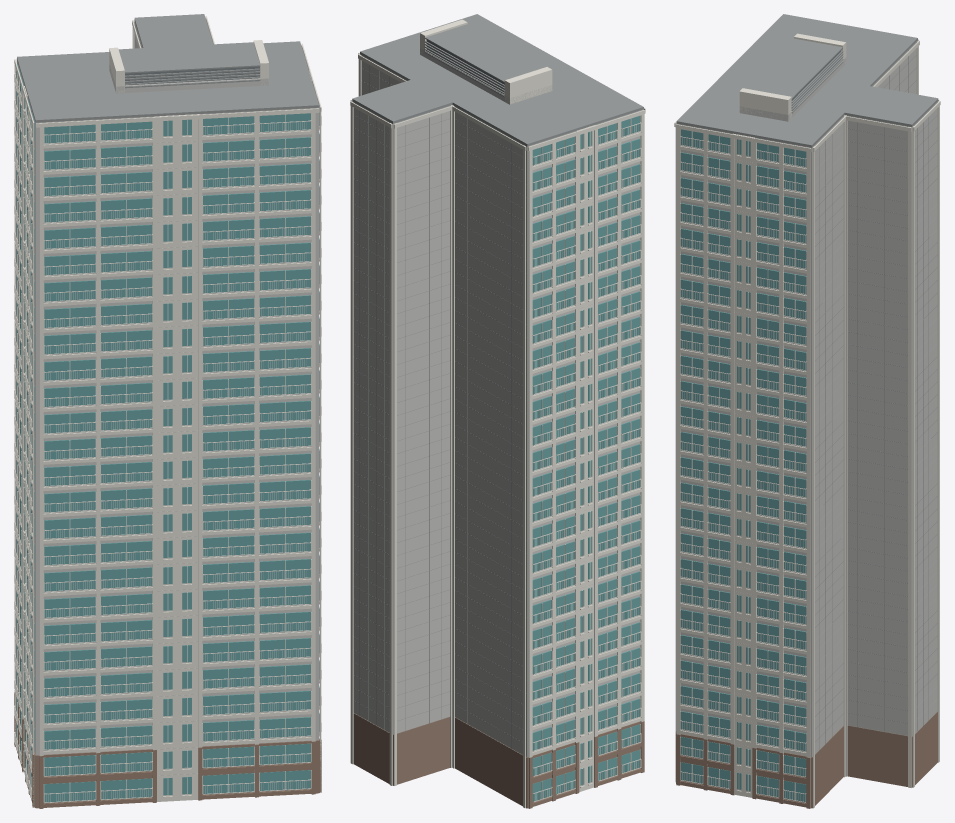
Rendered from bespoke-jamsil-els-115.glb.
3 views of the same model, side by side, from view 1: azimuth 30°, elevation 25°; view 2: azimuth 150°, elevation 25°; view 3: azimuth 270°, elevation 25° (orthographic). The views are drawn at different scales.
Visible parts, largest first — view 1: Els115_editable_Els115_turquoise_balcony_glazing, Els115_white_exact_chunk_1, Els115_white_exact_chunk_2, Els115_editable_Els115_light_grey_solid_wall, Els115_editable_Els115_modest_grey_flat_roof_caps, Els115_white_exact_chunk_0, Els115_editable_Els115_muted_ground_wall, Els115_white_exact_chunk_3, Els115_white_exact_chunk_4, Els115_editable_Els115_narrow_charcoal_service_strips; view 2: Els115_editable_Els115_light_grey_solid_wall, Els115_white_exact_chunk_0, Els115_editable_Els115_turquoise_balcony_glazing, Els115_editable_Els115_modest_grey_flat_roof_caps, Els115_white_exact_chunk_4, Els115_white_exact_chunk_1, Els115_editable_Els115_muted_ground_wall; view 3: Els115_editable_Els115_light_grey_solid_wall, Els115_editable_Els115_turquoise_balcony_glazing, Els115_white_exact_chunk_3, Els115_editable_Els115_modest_grey_flat_roof_caps, Els115_white_exact_chunk_4, Els115_white_exact_chunk_2, Els115_editable_Els115_muted_ground_wall.
Boxes of the visible parts, box(x1,y1,x2,y2) form: Els115_editable_Els115_turquoise_balcony_glazing: box(16, 64, 319, 802); Els115_white_exact_chunk_1: box(14, 59, 199, 807); Els115_white_exact_chunk_2: box(36, 71, 321, 799); Els115_editable_Els115_light_grey_solid_wall: box(17, 21, 318, 775); Els115_editable_Els115_modest_grey_flat_roof_caps: box(17, 14, 318, 122); Els115_white_exact_chunk_0: box(14, 58, 32, 799); Els115_editable_Els115_muted_ground_wall: box(14, 692, 321, 808); Els115_white_exact_chunk_3: box(312, 80, 321, 791); Els115_white_exact_chunk_4: box(109, 16, 321, 111); Els115_editable_Els115_narrow_charcoal_service_strips: box(125, 66, 259, 83); Els115_editable_Els115_light_grey_solid_wall: box(352, 48, 643, 766); Els115_white_exact_chunk_0: box(450, 105, 641, 808); Els115_editable_Els115_turquoise_balcony_glazing: box(532, 116, 640, 801); Els115_editable_Els115_modest_grey_flat_roof_caps: box(352, 14, 643, 754); Els115_white_exact_chunk_4: box(350, 19, 552, 785); Els115_white_exact_chunk_1: box(528, 110, 645, 787); Els115_editable_Els115_muted_ground_wall: box(353, 713, 644, 808); Els115_editable_Els115_light_grey_solid_wall: box(677, 40, 938, 772); Els115_editable_Els115_turquoise_balcony_glazing: box(681, 129, 806, 801); Els115_white_exact_chunk_3: box(676, 124, 806, 802); Els115_editable_Els115_modest_grey_flat_roof_caps: box(676, 14, 938, 754); Els115_white_exact_chunk_4: box(675, 33, 940, 808); Els115_white_exact_chunk_2: box(674, 16, 780, 797); Els115_editable_Els115_muted_ground_wall: box(675, 711, 937, 808).
Size of the model in its own units: 29.7 by 71.15 by 25.09.
